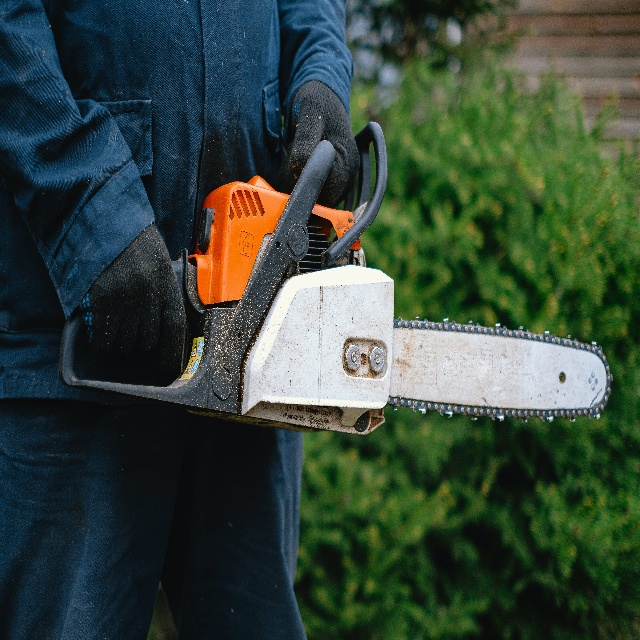Guantes: (82, 243, 188, 370), (284, 85, 357, 204)
